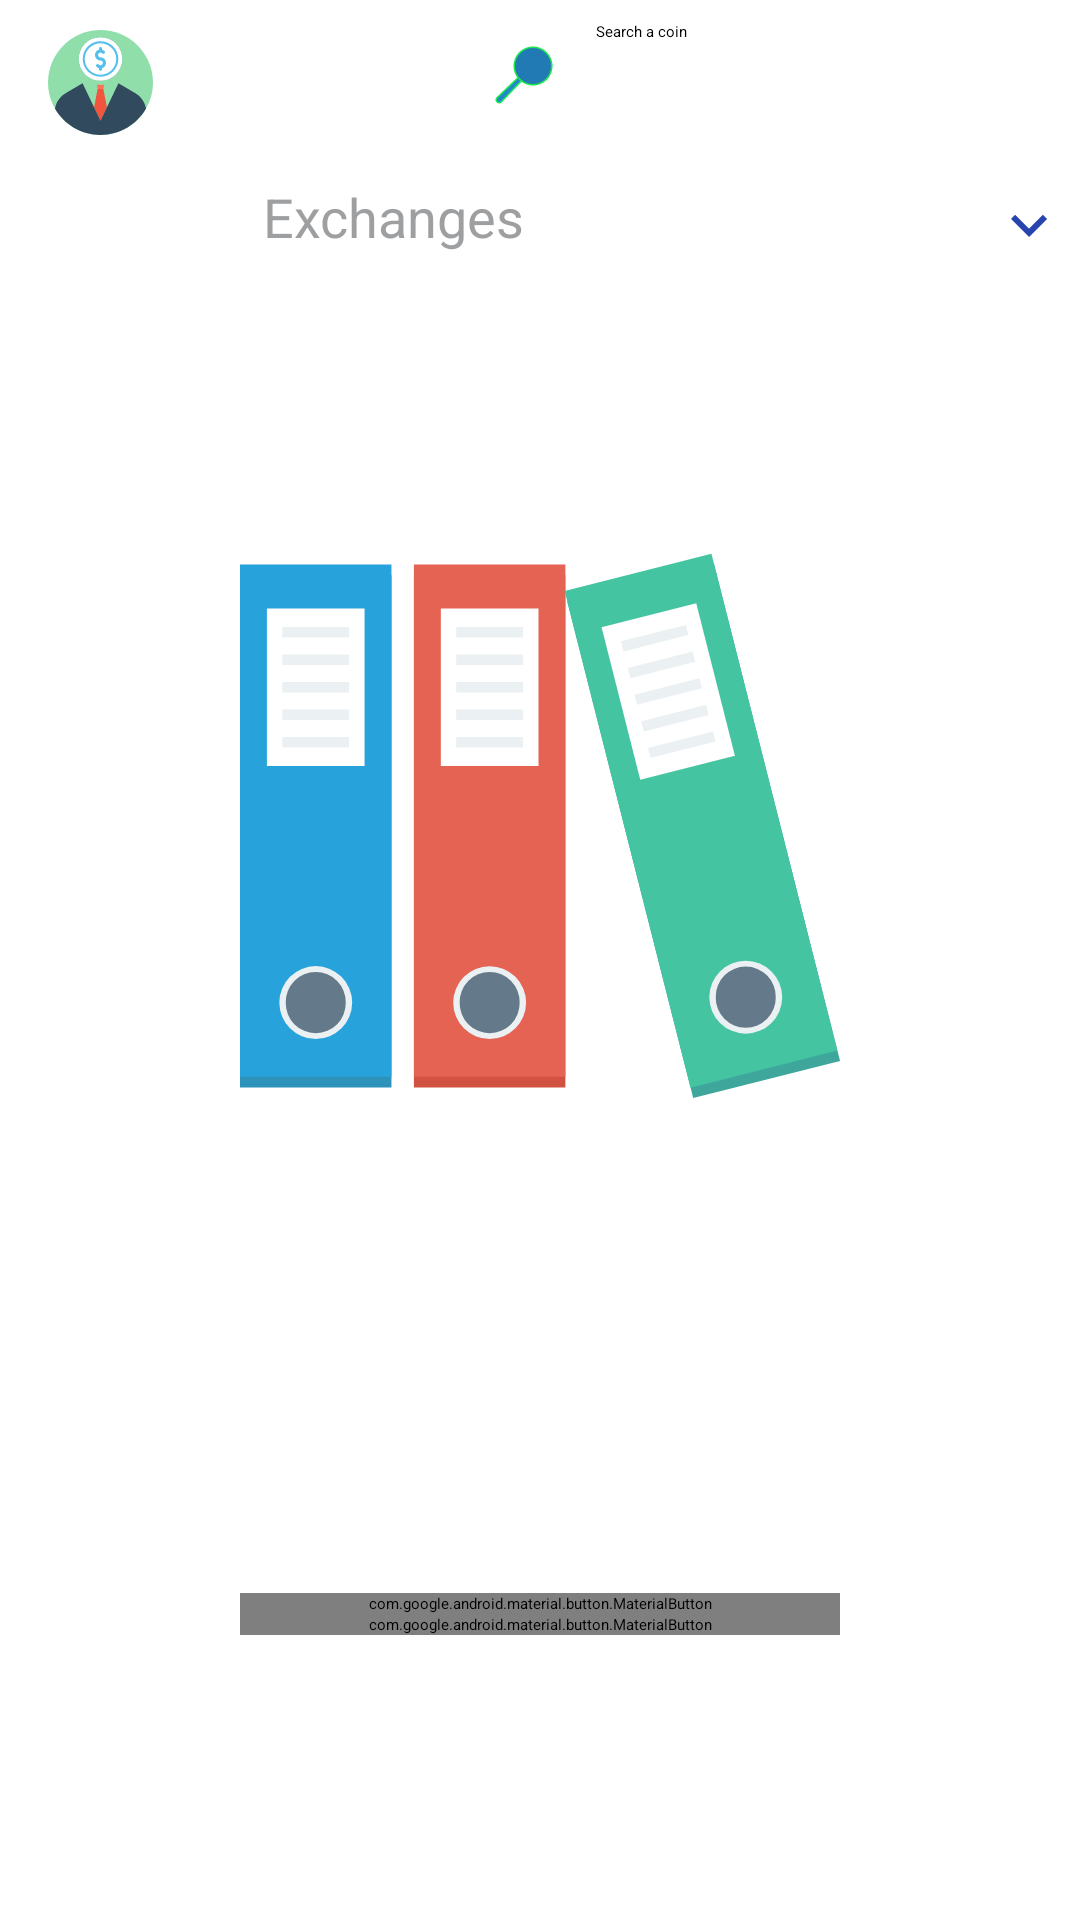

Point at icon controls on the screen. Image size 1080x1920, points as point (x, y).
profile: point (100, 82)
